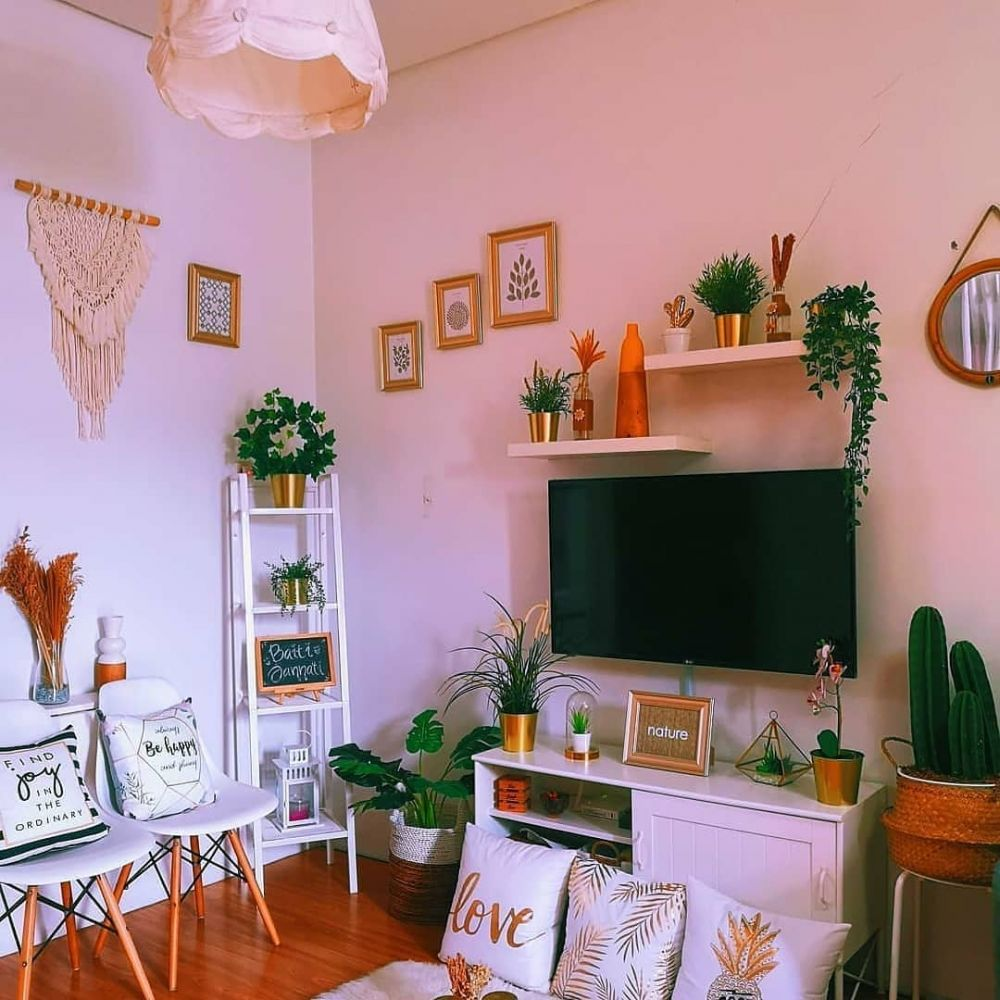kursi: (87, 676, 298, 965), (1, 692, 151, 1000)
